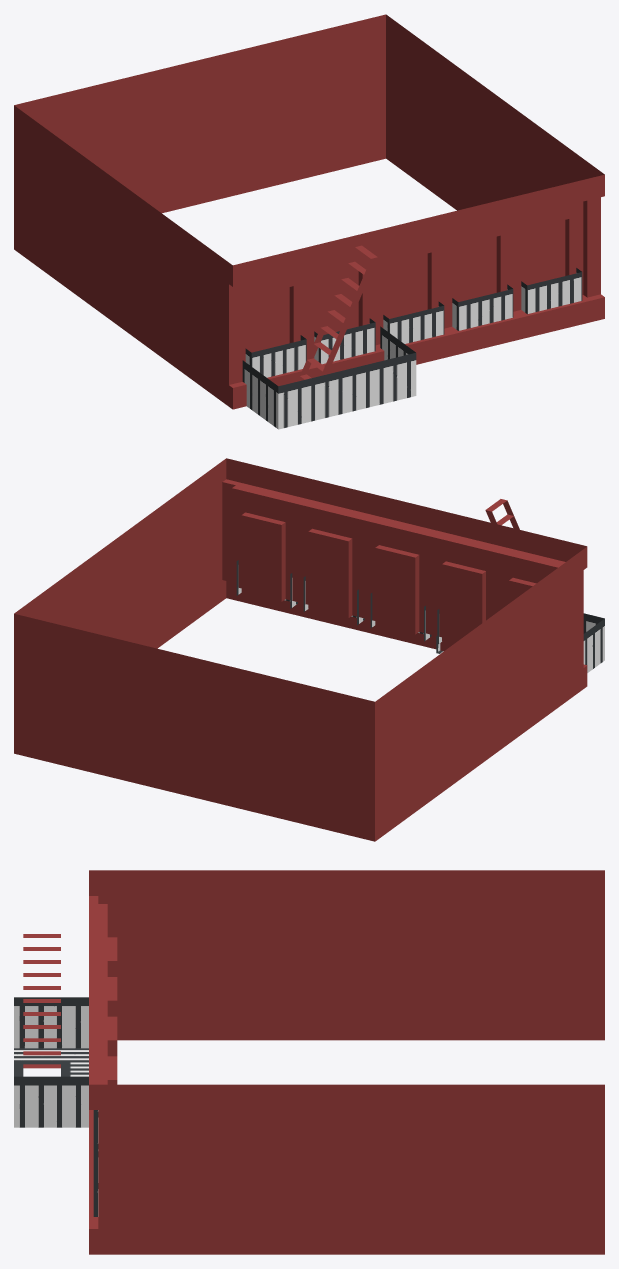
The model's file is building middle floor.fbx.
3 views of the same model, one above another, from view 1: azimuth 30°, elevation 25°; view 2: azimuth 150°, elevation 25°; view 3: azimuth 270°, elevation 25° (orthographic). The views are drawn at different scales.
Visible parts, largest first — view 1: Building Middle Floor; view 2: Building Middle Floor; view 3: Building Middle Floor.
Part boxes in pixels (bbox=[...]): Building Middle Floor: bbox=[14, 14, 604, 429]; Building Middle Floor: bbox=[14, 458, 604, 841]; Building Middle Floor: bbox=[14, 870, 604, 1254].
Bounding box in the file's own units: 540 × 200 × 630.
